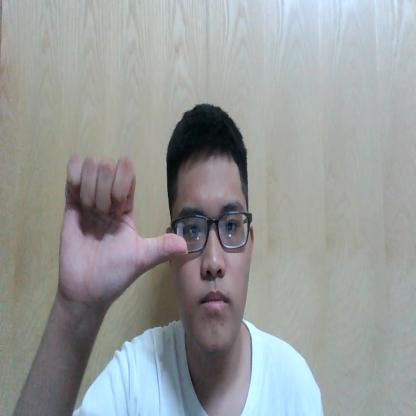left: (58, 148, 190, 312)
